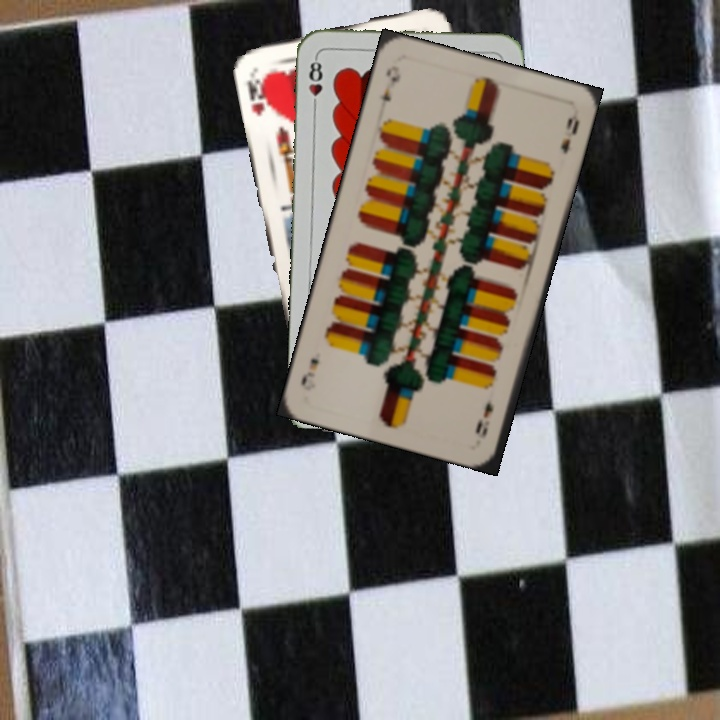E9: (378, 61, 403, 104), (472, 397, 496, 441)
H8: (305, 53, 325, 112)
HK: (242, 65, 275, 120)
